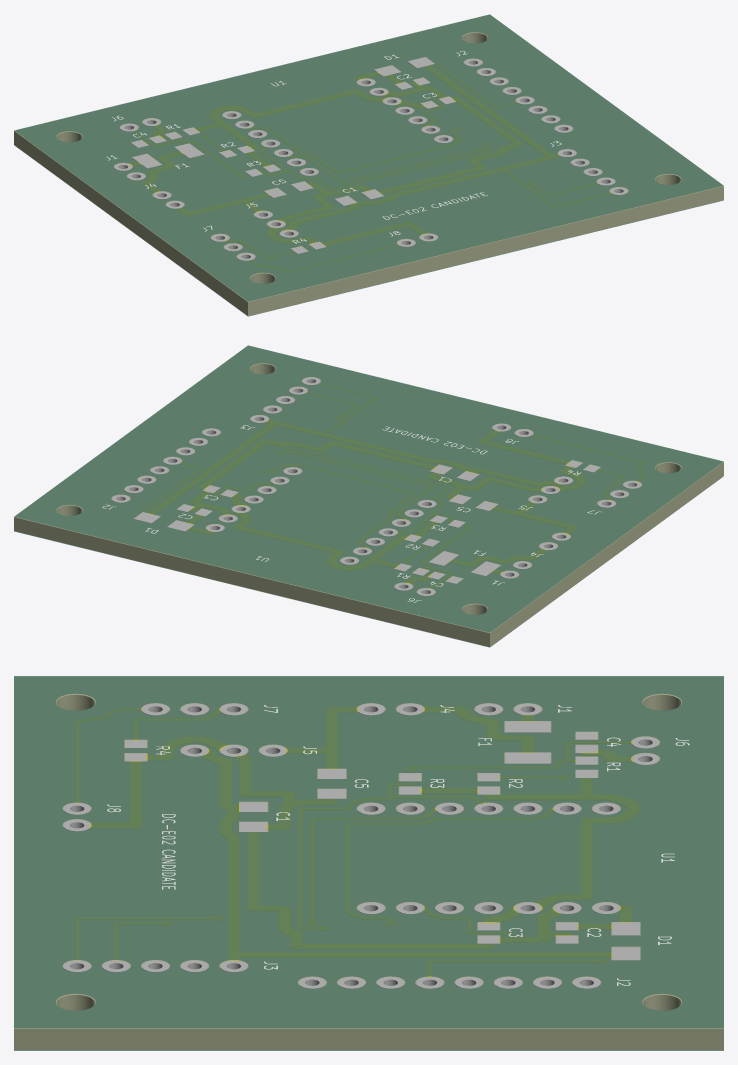
File: board.glb
3 renders of one model, top to bottom at view 1: azimuth 30°, elevation 25°; view 2: azimuth 150°, elevation 25°; view 3: azimuth 270°, elevation 25°, orthographic. The views are drawn at different scales.
Parts seen in each view (by area): view 1: board_soldermask (×2), board_PCB, board_copper, board_pad, board_silkscreen; view 2: board_soldermask (×2), board_PCB, board_copper, board_pad, board_silkscreen; view 3: board_soldermask (×2), board_PCB, board_copper, board_pad, board_silkscreen.
Part boxes in pixels (x1,y1,x2,y2): board_soldermask (×2): [14, 14, 723, 316]; board_PCB: [14, 15, 723, 315]; board_copper: [129, 65, 611, 271]; board_pad: [114, 57, 627, 260]; board_silkscreen: [106, 50, 561, 243]; board_soldermask (×2): [14, 345, 723, 647]; board_PCB: [14, 346, 723, 646]; board_copper: [142, 383, 645, 588]; board_pad: [112, 377, 641, 595]; board_silkscreen: [102, 425, 601, 602]; board_soldermask (×2): [14, 676, 723, 1050]; board_PCB: [14, 677, 723, 1049]; board_copper: [75, 707, 638, 976]; board_pad: [63, 703, 659, 988]; board_silkscreen: [107, 705, 689, 985].
Bounding box in the file's own units: 0.054 × 0.00163 × 0.046.
